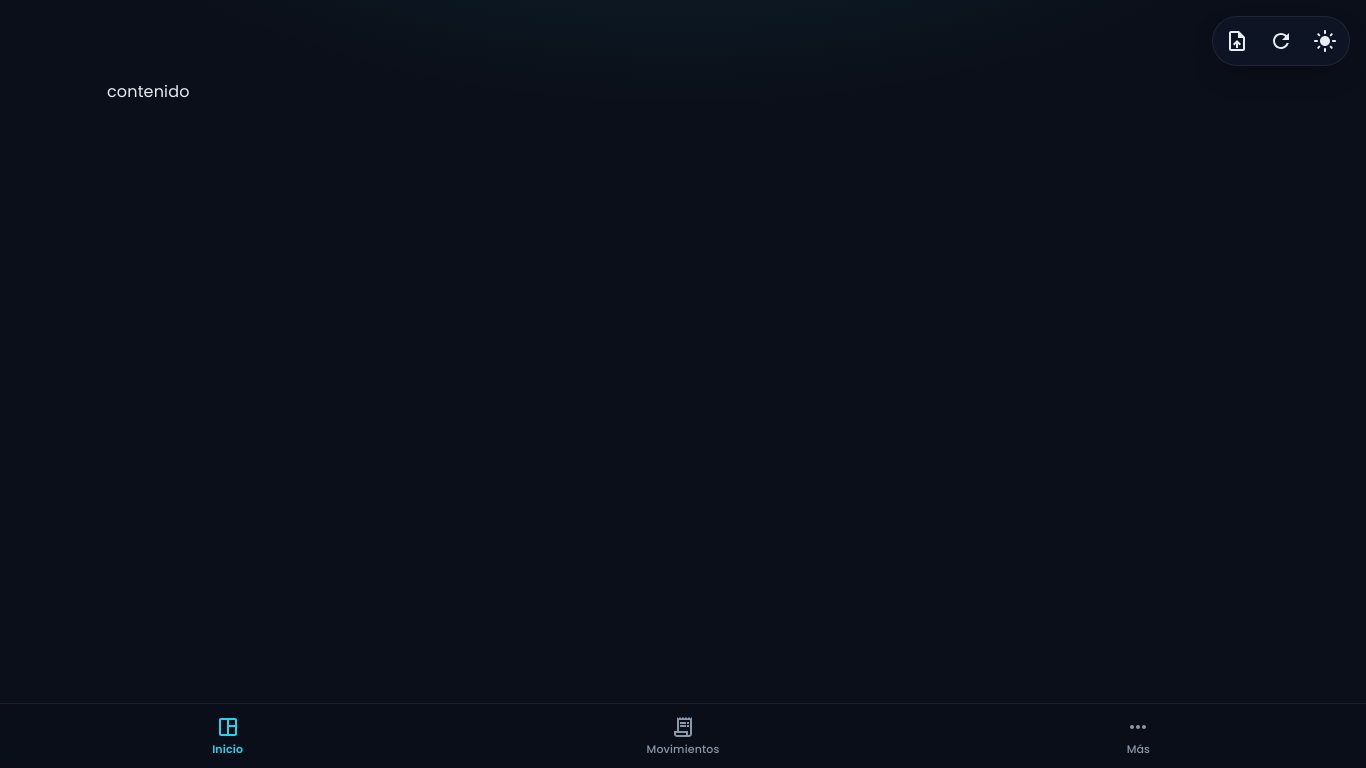
Test case: Layout en mobile › «Más» abre el resto de las secciones y la hoja se cierra al elegir una
The image size is (1366, 768).
Click the button "Más": {"x": 1138, "y": 736} [911, 704, 1365, 767]
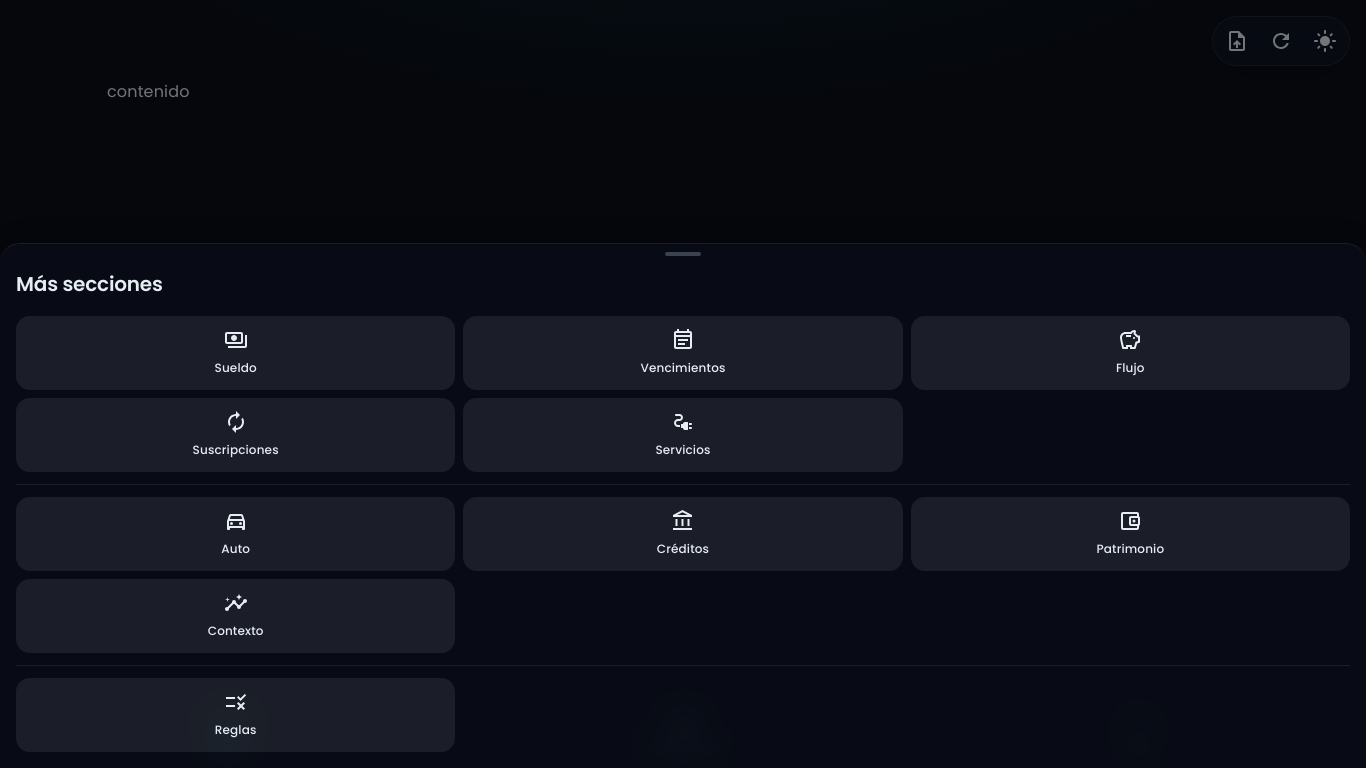
Click the link "Sueldo": {"x": 236, "y": 353} [16, 316, 455, 390]
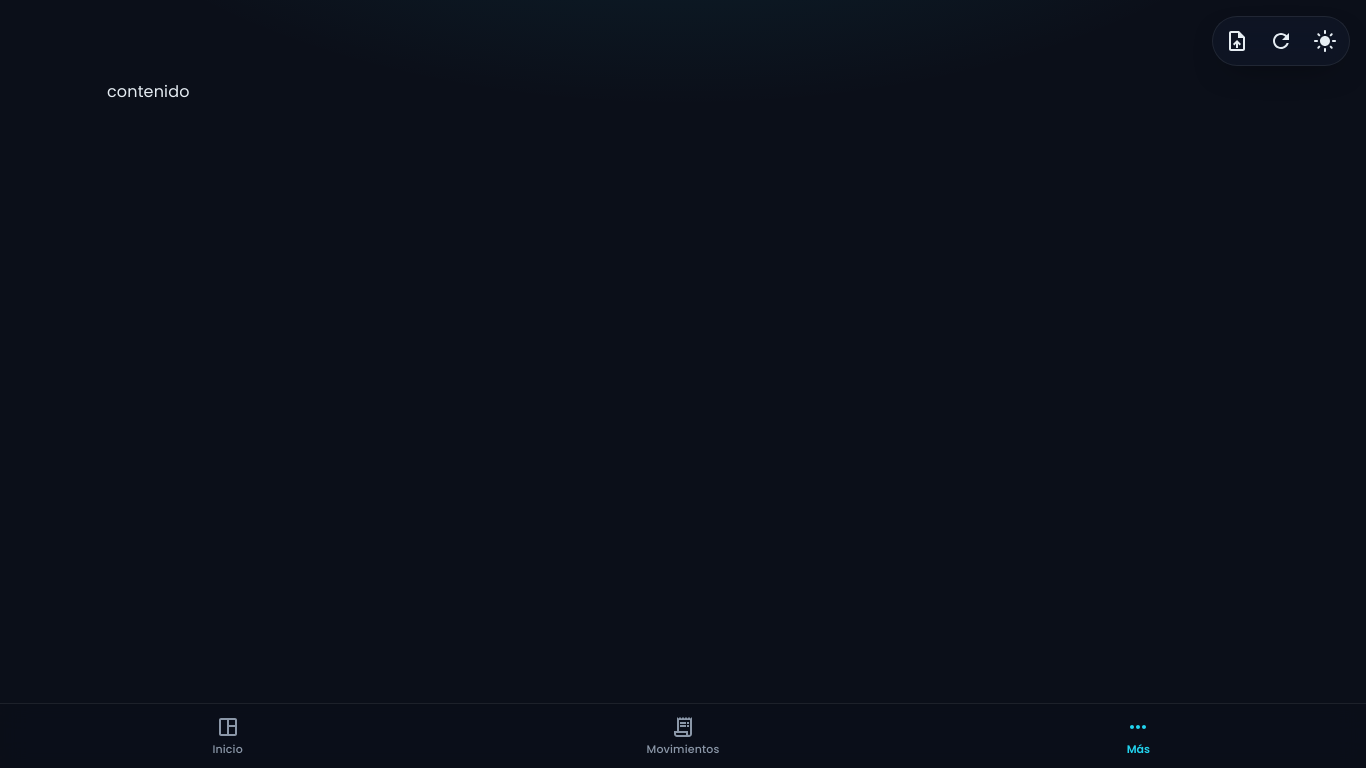
Now the heading "Más secciones" is gone
